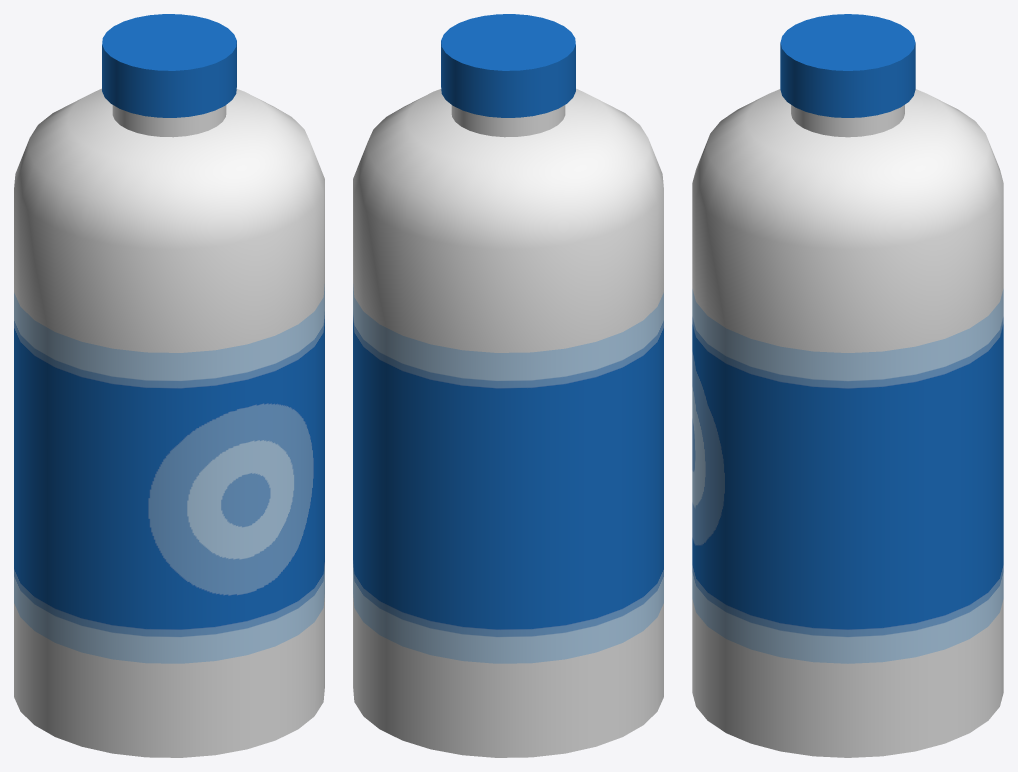
File: Bleach.fbx
3 renders of one model, left to right at view 1: azimuth 30°, elevation 25°; view 2: azimuth 150°, elevation 25°; view 3: azimuth 270°, elevation 25°, orthographic.
Parts seen in each view (by area): view 1: Bleach; view 2: Bleach; view 3: Bleach.
Boxes of the visible parts, box(x1,y1,x2,y2) form: Bleach: box(14, 14, 324, 757); Bleach: box(353, 14, 663, 757); Bleach: box(692, 14, 1003, 757).
Size of the model in its own units: 0.12 by 0.28 by 0.12.
3 materials, 1 textured.
